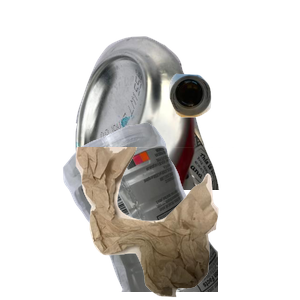glass: (166, 71, 300, 181)
metal: (73, 34, 285, 214)
plastic: (60, 120, 300, 300)
trash: (73, 147, 300, 300)
